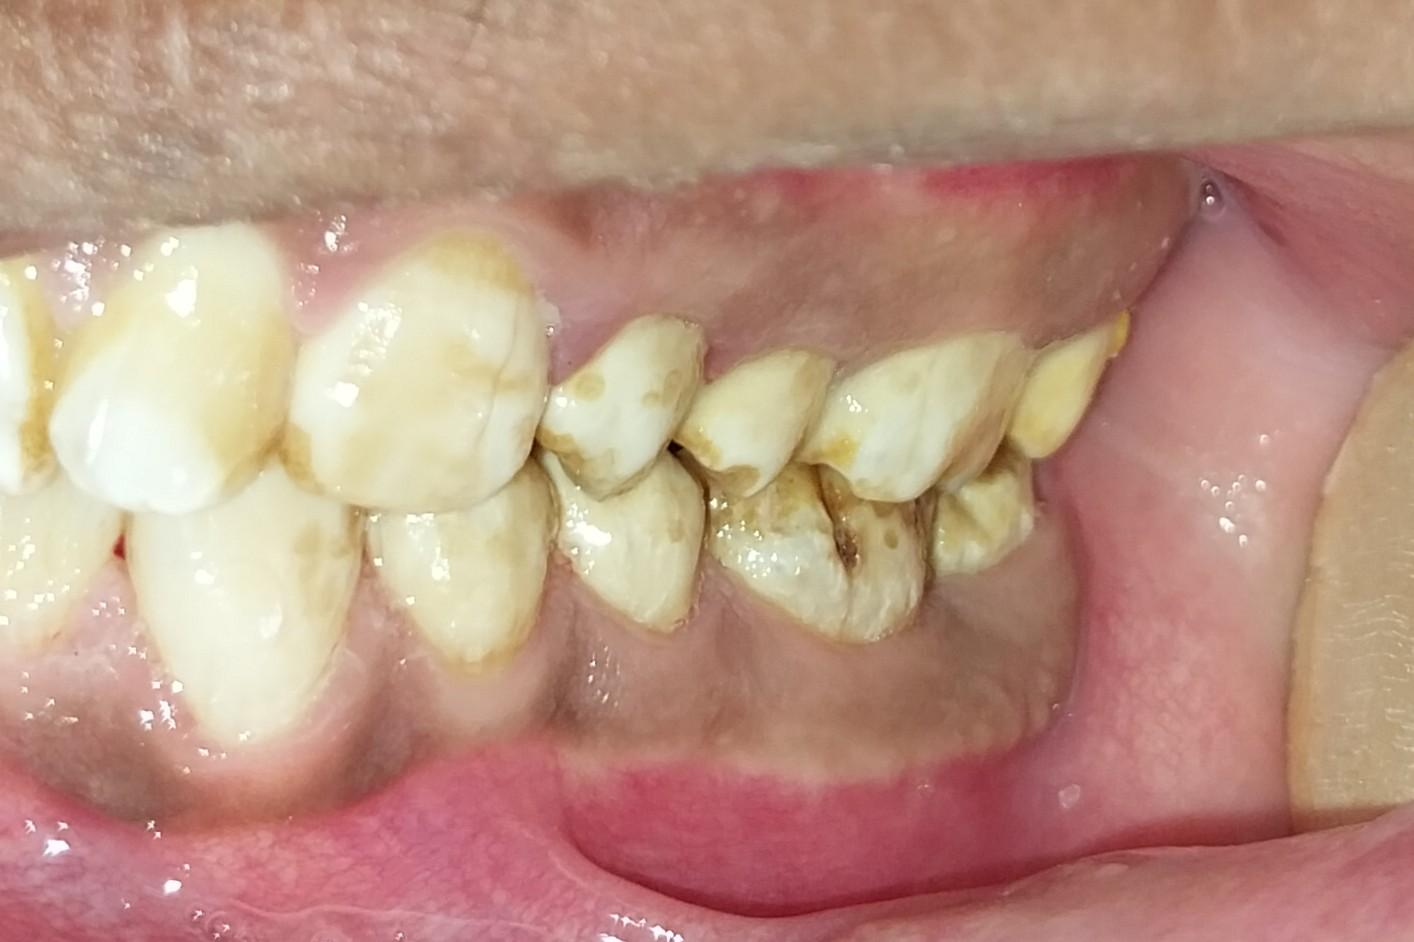D: (686, 447, 938, 642)
